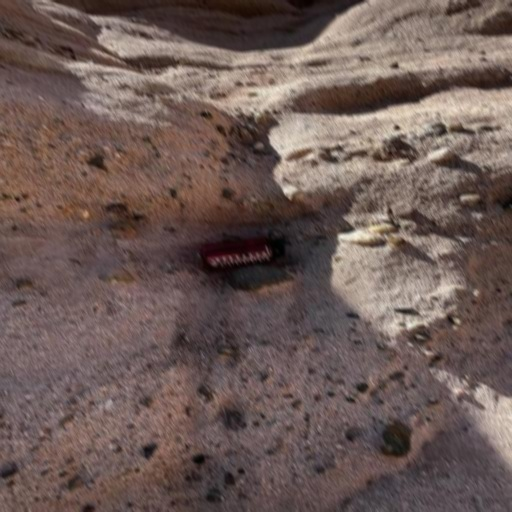bottle: (196, 228, 290, 278)
